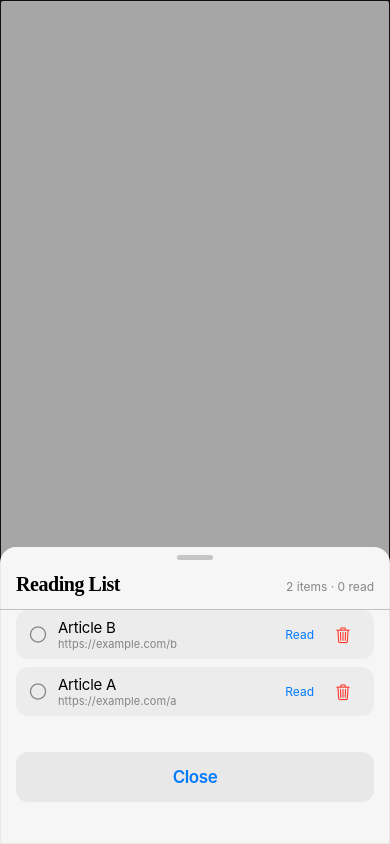
Test: BrowserReadingList › renders multiple items independently and keeps per-item read state
Check: the text "Article A" is shown, box top-left (58, 675), bottom-right (116, 694)
Check: the text "Article B" is shown, box top-left (58, 618), bottom-right (116, 637)
// Mark only A as read (first "Read" action belongs to the first item).
Click the 1st button "Read" at (300, 634), box top-left (275, 626), bottom-right (324, 642)
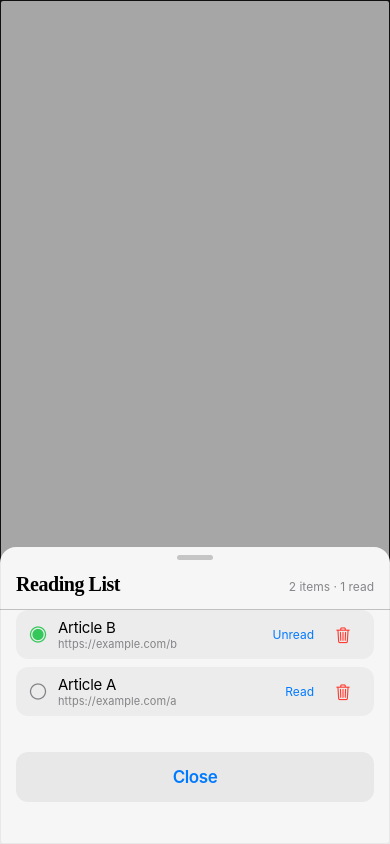
Check: the text "Read" is shown, box top-left (285, 684), bottom-right (314, 700)
Check: the text "Unread" is shown, box top-left (272, 626), bottom-right (314, 642)
